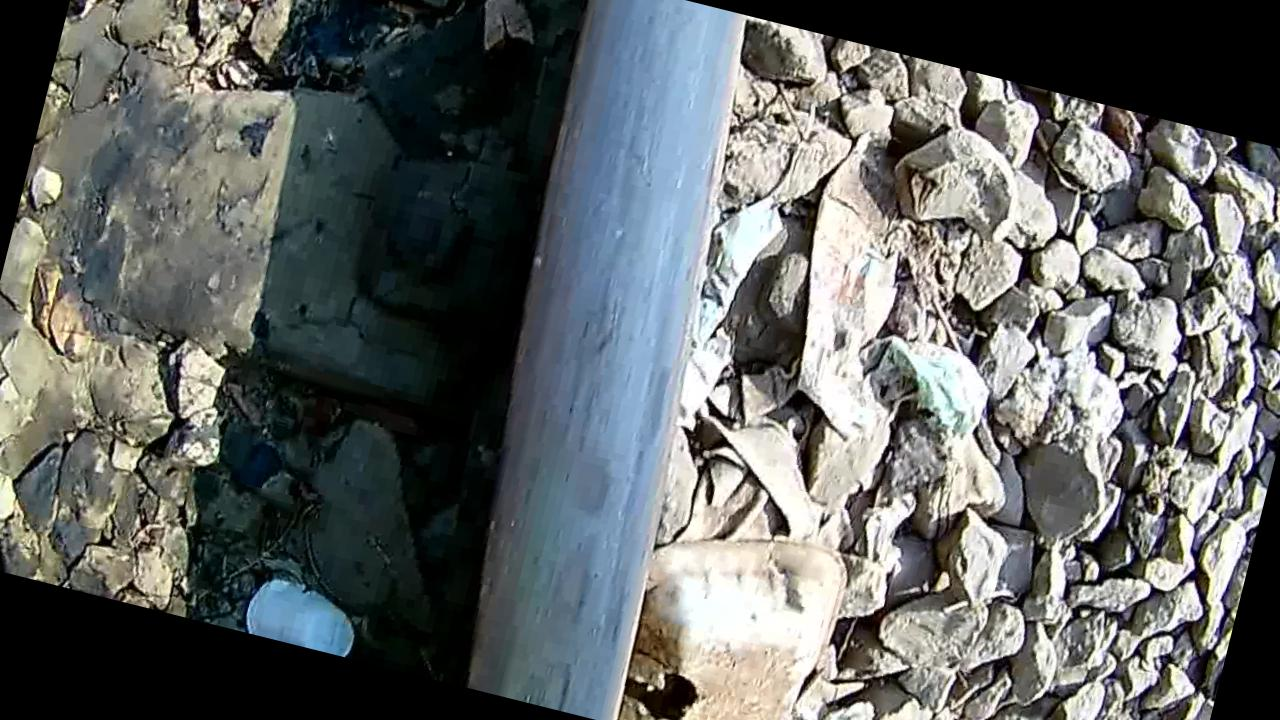bolt_missing: (429, 215, 737, 720)
